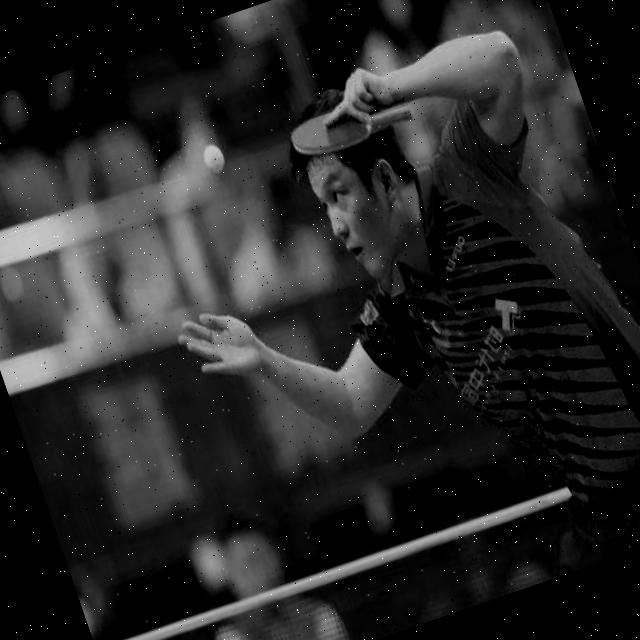ping-pong-ball: (196, 134, 230, 178)
